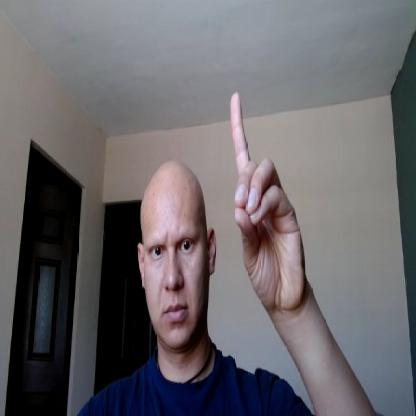D: (229, 92, 306, 310)
